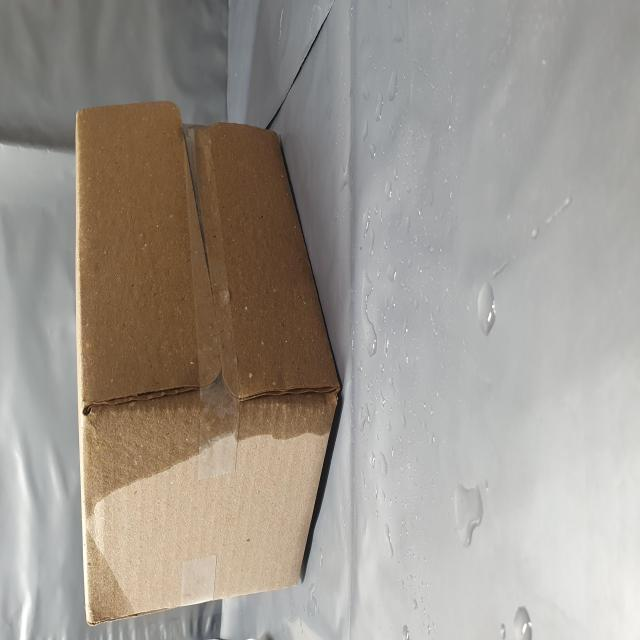wet: (13, 141, 293, 608)
